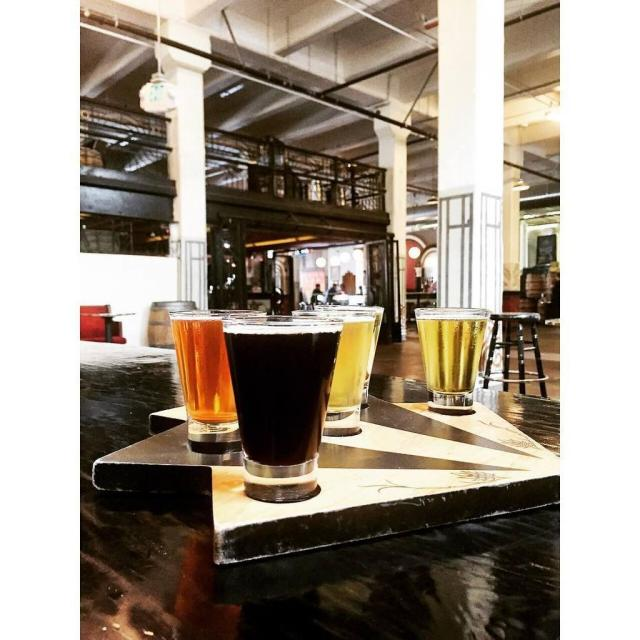table: (76, 334, 558, 639)
